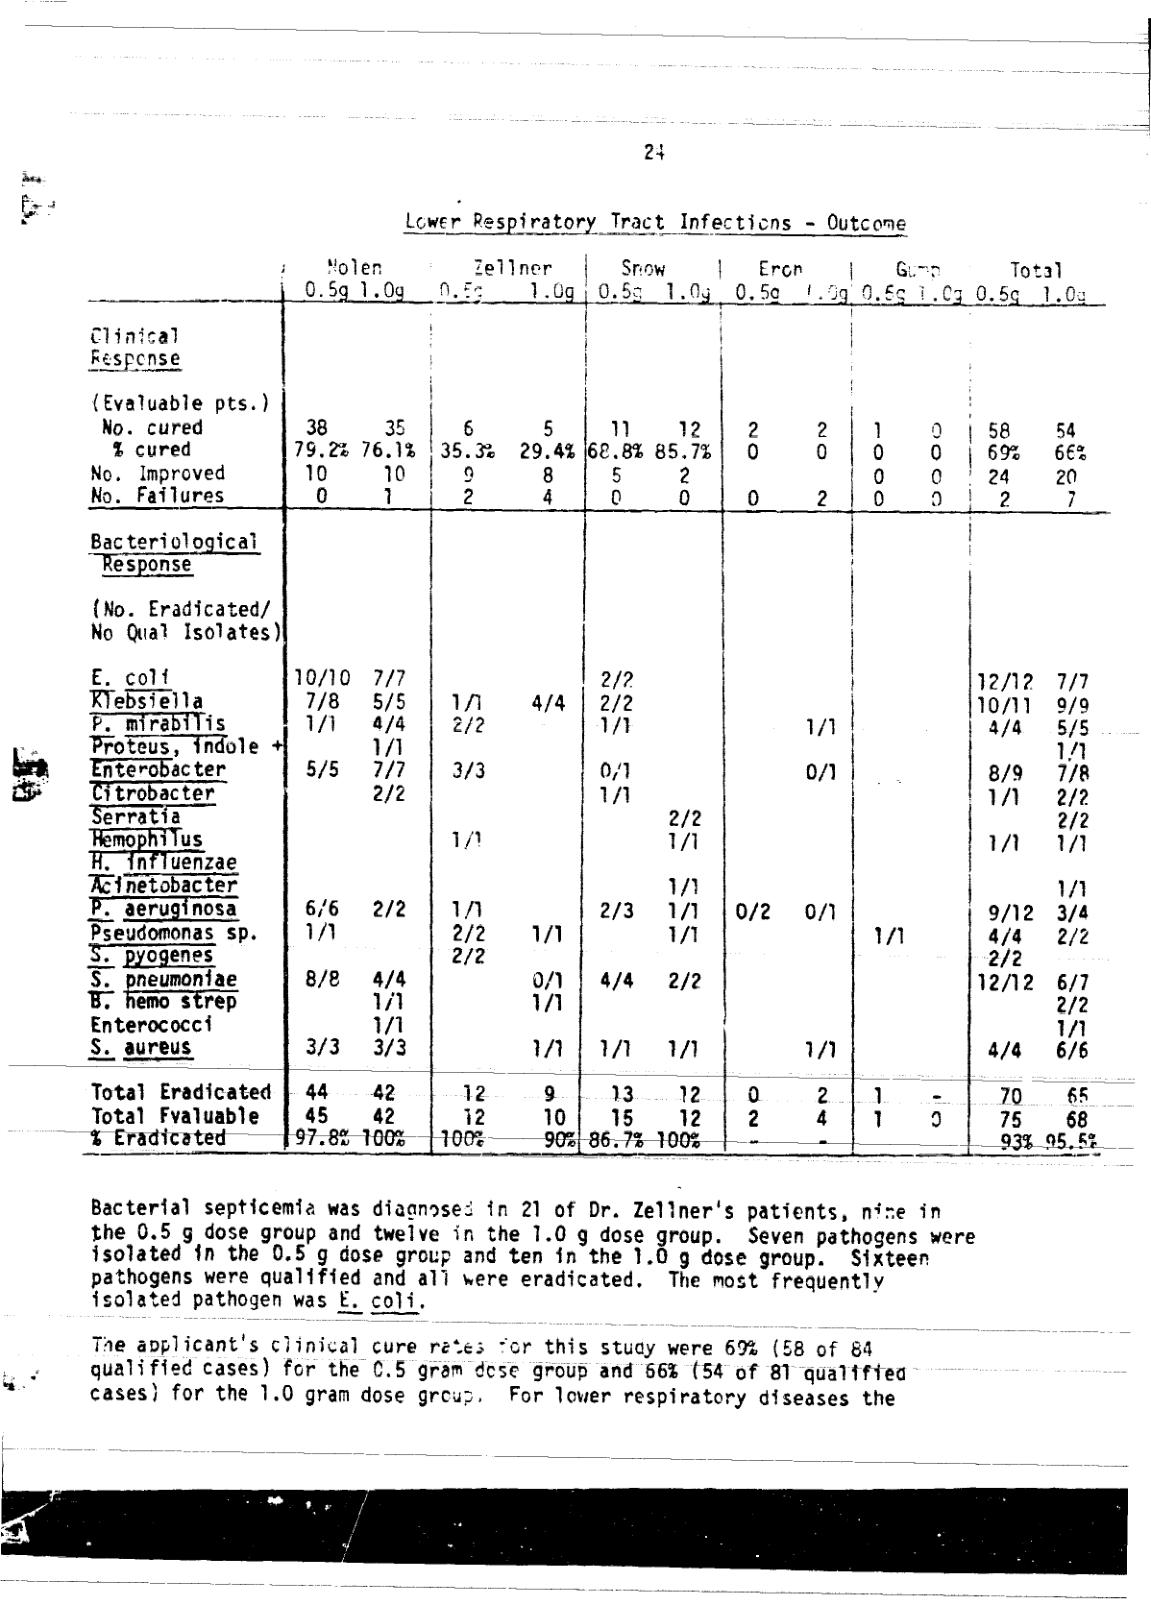partial_lined: (83, 242, 1112, 1160)
